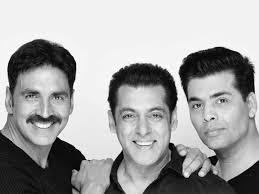Bad: (1, 39, 178, 194), (108, 46, 259, 194)
